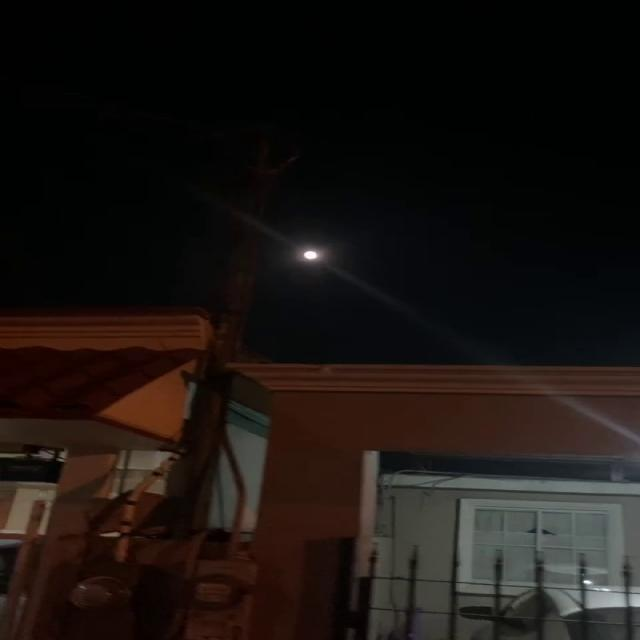moon: (295, 246, 327, 272)
